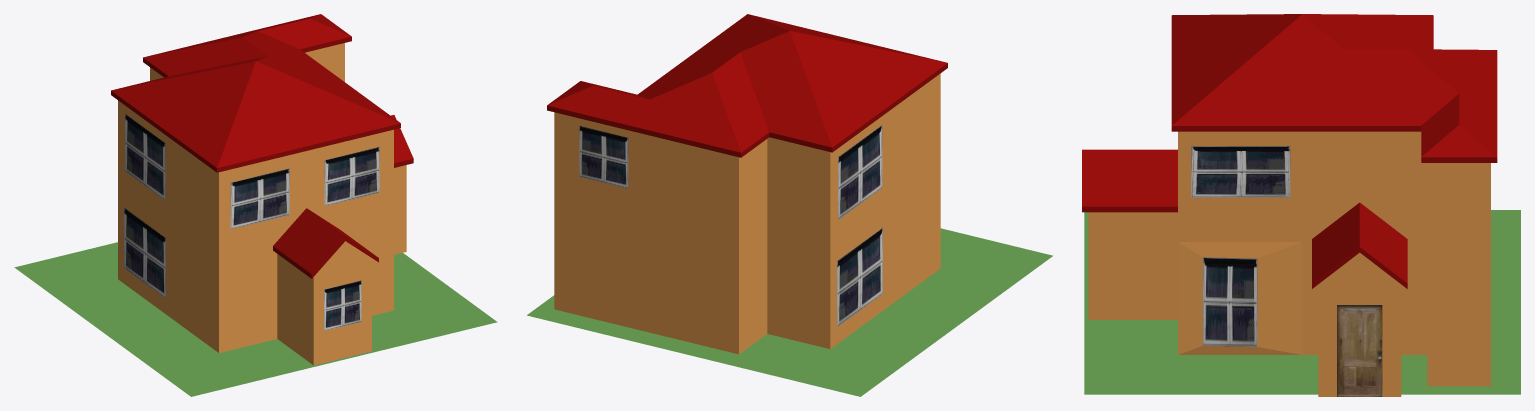
Rendered from House.001.gltf.
3 renders of one model, left to right at view 1: azimuth 30°, elevation 25°; view 2: azimuth 150°, elevation 25°; view 3: azimuth 270°, elevation 25°, orthographic. The views are drawn at different scales.
Visible parts, largest first — view 1: building_014, Plane.007; view 2: building_014, Plane.007; view 3: building_014, Plane.007.
Boxes of the visible parts, x1,y1,x2,y2 form: building_014: (111, 14, 413, 365); Plane.007: (14, 242, 497, 396); building_014: (547, 14, 947, 354); Plane.007: (527, 228, 1052, 396); building_014: (1082, 14, 1497, 396); Plane.007: (1084, 210, 1520, 394).
Size of the model in its own units: 7.19 by 5.1 by 7.04.
Materials: 5 (2 with a texture image).
